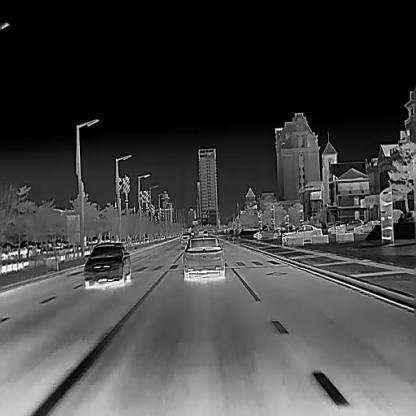car: (80, 241, 131, 285), (182, 234, 225, 280), (282, 224, 324, 240), (353, 219, 381, 233), (252, 226, 281, 238), (335, 218, 363, 229), (327, 223, 338, 234), (180, 231, 191, 240)
